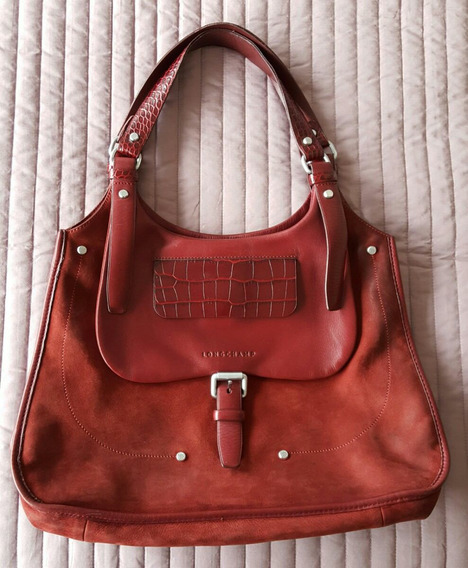cartera: (9, 21, 451, 546)
